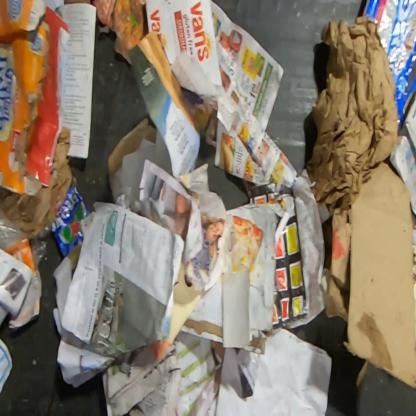cardboard: (343, 155, 416, 389), (0, 0, 72, 197), (324, 207, 351, 324), (107, 117, 157, 177), (357, 360, 371, 386), (413, 242, 415, 324)
metal: (51, 186, 90, 259)
soft_plastic: (361, 0, 415, 135), (28, 221, 52, 270), (0, 207, 23, 251)
